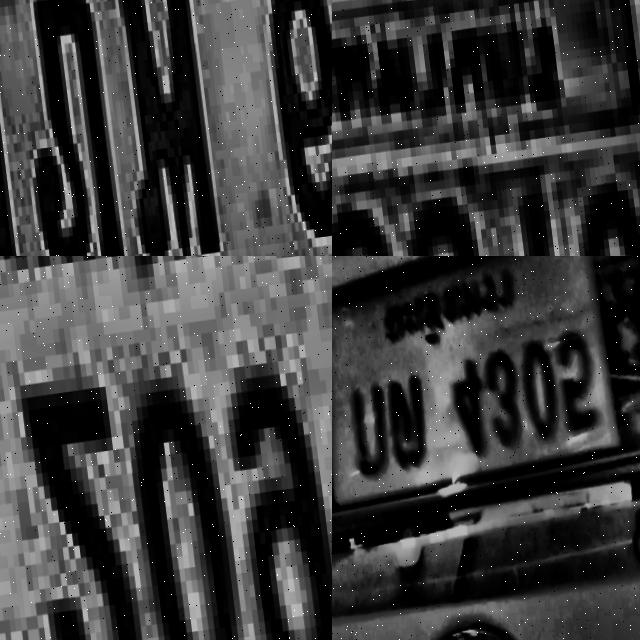license-plate: (0, 256, 332, 640), (0, 0, 332, 256), (332, 0, 640, 256), (332, 256, 615, 503)
